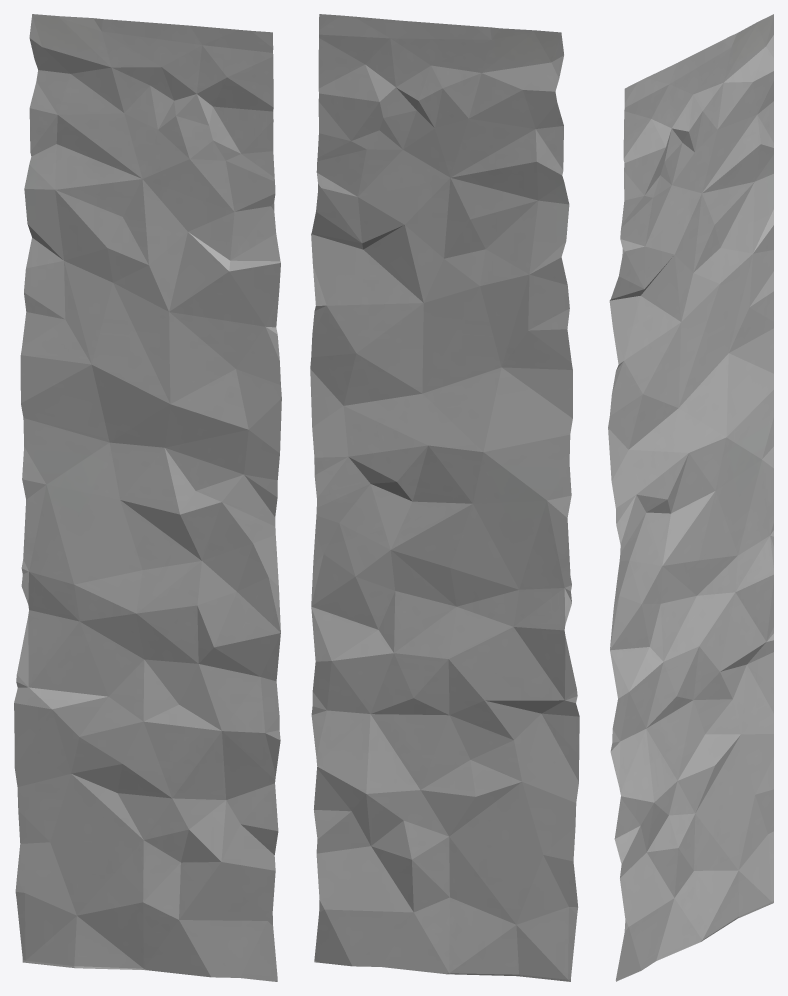
The picture shows the model from 3 angles, left to right: view 1: azimuth 30°, elevation 25°; view 2: azimuth 210°, elevation 25°; view 3: azimuth 270°, elevation 25°; orthographic projection. The views are drawn at different scales.
Size of the model in its own units: 0.3334 by 1.67 by 0.282.
1 material, 1 textured.
